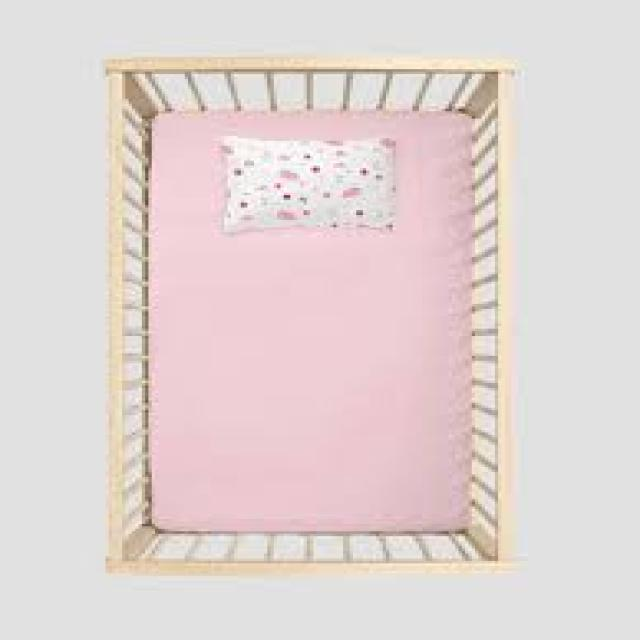crib: (102, 54, 522, 574)
